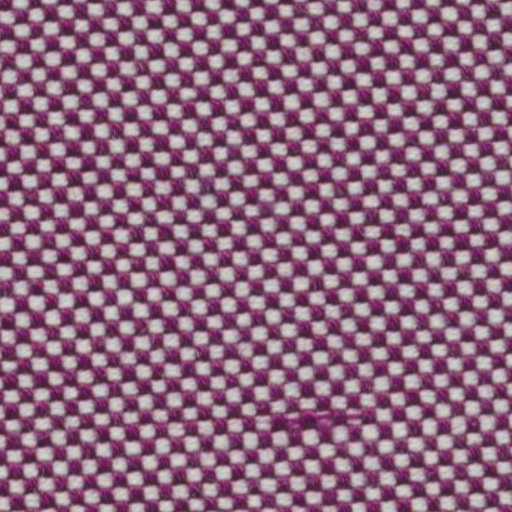DuanSha: (278, 395, 369, 439)
